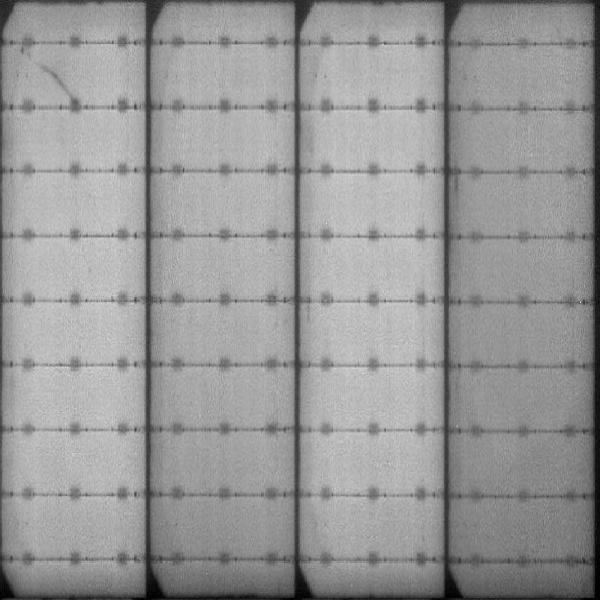scratch: (18, 51, 82, 105)
